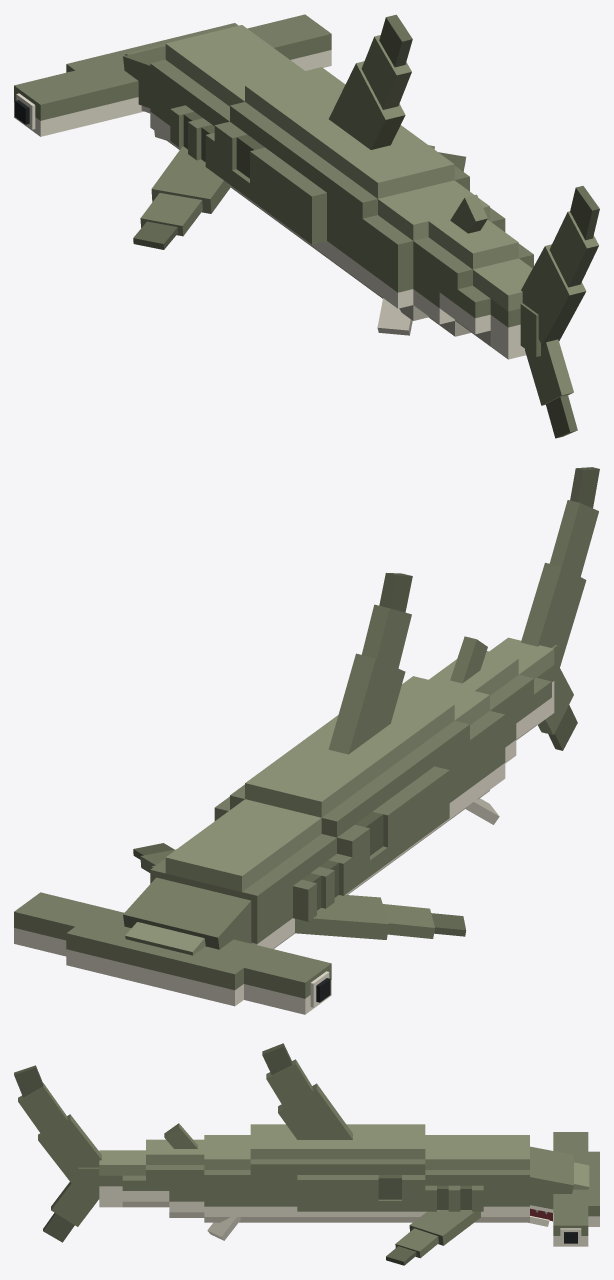
File: HammerheadShark.obj
3 renders of one model, top to bottom at view 1: azimuth 30°, elevation 25°; view 2: azimuth 150°, elevation 25°; view 3: azimuth 270°, elevation 25°, orthographic. The views are drawn at different scales.
Parts seen in each view (by area): view 1: Head, S3, S1, Tail, S2, S5, S4, S6, S7; view 2: Head, S3, S1, S2, Tail, S5, S6, S4, S7; view 3: Head, S3, S1, S2, Tail, S6, S4, S5, S7.
Part boxes in pixels (x1,y1,x2,y2): Head: (14,14,331,149); S3: (267,14,418,268); S1: (133,51,465,249); Tail: (520,186,599,438); S2: (214,67,345,236); S5: (362,180,505,335); S4: (327,138,469,294); S6: (413,194,533,336); S7: (457,258,532,359); Head: (14,831,331,1014); S3: (298,573,449,874); S1: (133,799,466,945); S2: (214,744,405,894); Tail: (521,467,599,750); S5: (400,676,505,824); S6: (429,636,533,763); S4: (391,691,469,842); S7: (489,637,554,738); Head: (483,1132,599,1246); S3: (262,1043,355,1222); S1: (386,1135,483,1265); S2: (355,1124,425,1222); Tail: (14,1065,101,1242); S6: (146,1123,204,1217); S4: (250,1124,297,1222); S5: (204,1135,250,1240); S7: (99,1150,145,1207).
Bounding box in the file's own units: 8.69 × 7.45 × 20.14.
1 material, 1 textured.
